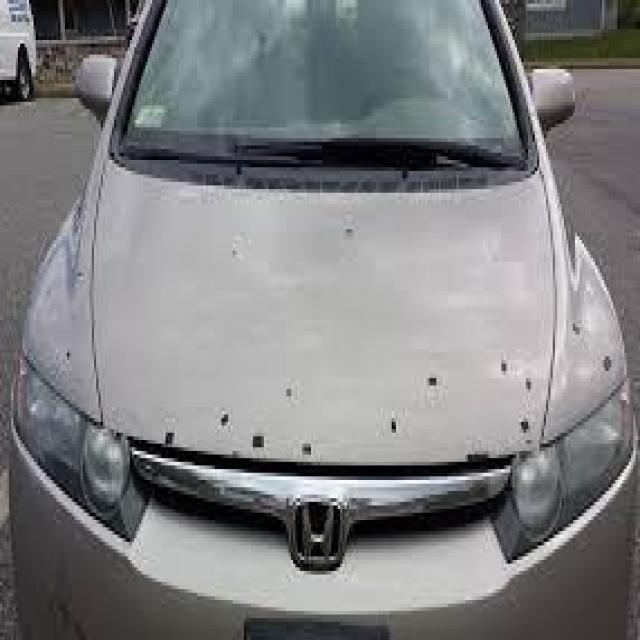damaged: (159, 345, 535, 462), (226, 207, 356, 262), (566, 313, 618, 378)
